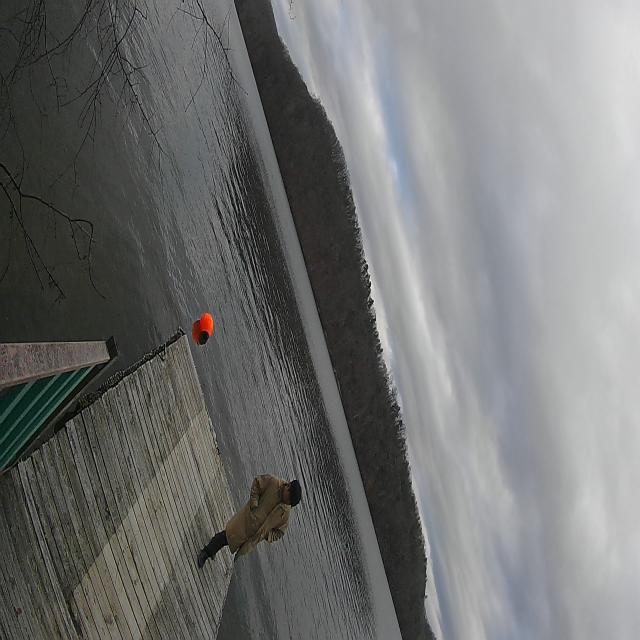Buoy: (199, 313, 214, 345)
